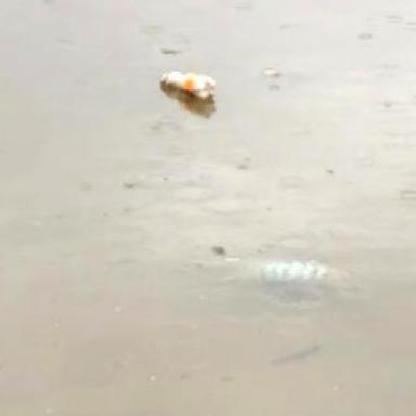plastic bottle: (160, 72, 216, 99)
